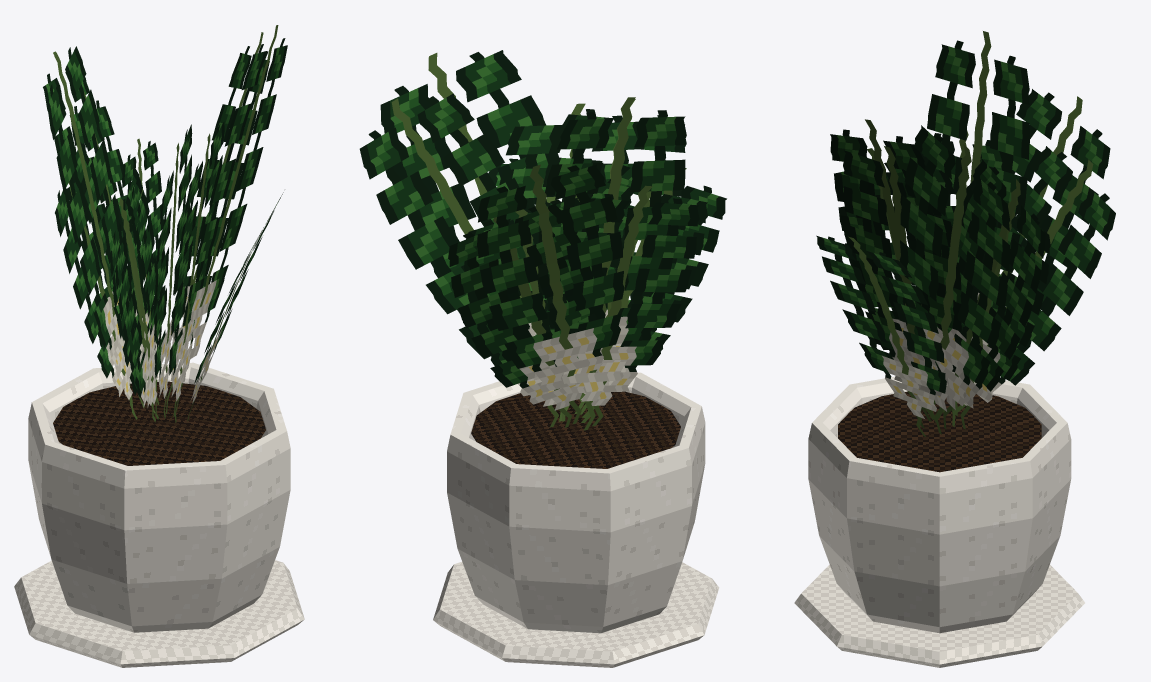
Rendered from Jasmine.gltf.
3 views of the same model, side by side, from view 1: azimuth 30°, elevation 25°; view 2: azimuth 150°, elevation 25°; view 3: azimuth 270°, elevation 25° (orthographic). The views are drawn at different scales.
Parts seen in each view (by area): view 1: Pot.008, Saucer.008, Soil.008, Branch_006, Branch_010, Branch_001, Branch_011, Branch_003, Branch_009, Branch_008, Branch_000, Branch_002 (+3 smaller); view 2: Pot.008, Branch_004, Branch_008, Saucer.008, Soil.008, Branch_006, Branch_010, Branch_011, Branch_007, Branch_003, Branch_001, Branch_000 (+2 smaller); view 3: Pot.008, Branch_010, Saucer.008, Soil.008, Branch_005, Branch_006, Branch_007, Branch_003, Branch_008, Branch_004, Branch_009, Branch_002 (+3 smaller).
Part boxes in pixels (left/top/right/bottom): Pot.008: left=28, top=362, right=290, bottom=632; Saucer.008: left=14, top=560, right=304, bottom=667; Soil.008: left=53, top=381, right=265, bottom=465; Branch_006: left=46, top=46, right=135, bottom=414; Branch_010: left=173, top=25, right=287, bottom=416; Branch_001: left=115, top=176, right=159, bottom=419; Branch_011: left=55, top=142, right=137, bottom=419; Branch_003: left=169, top=121, right=224, bottom=422; Branch_009: left=154, top=124, right=192, bottom=418; Branch_008: left=166, top=32, right=269, bottom=413; Branch_000: left=109, top=169, right=157, bottom=422; Branch_002: left=122, top=138, right=165, bottom=404; Pot.008: left=447, top=372, right=705, bottom=633; Branch_004: left=477, top=164, right=624, bottom=423; Branch_008: left=359, top=93, right=565, bottom=421; Saucer.008: left=433, top=562, right=719, bottom=667; Soil.008: left=471, top=391, right=680, bottom=468; Branch_006: left=537, top=97, right=686, bottom=430; Branch_010: left=380, top=50, right=565, bottom=421; Branch_011: left=548, top=185, right=699, bottom=426; Branch_007: left=448, top=203, right=593, bottom=427; Branch_003: left=499, top=103, right=638, bottom=413; Branch_001: left=582, top=165, right=726, bottom=417; Branch_000: left=547, top=182, right=707, bottom=422; Pot.008: left=808, top=376, right=1071, bottom=633; Branch_010: left=899, top=125, right=1010, bottom=434; Saucer.008: left=794, top=564, right=1084, bottom=667; Soil.008: left=838, top=391, right=1041, bottom=472; Branch_005: left=816, top=235, right=946, bottom=436; Branch_006: left=924, top=31, right=1029, bottom=413; Branch_007: left=952, top=146, right=1115, bottom=426; Branch_003: left=843, top=146, right=961, bottom=428; Branch_008: left=943, top=159, right=1045, bottom=429; Branch_004: left=955, top=89, right=1110, bottom=415; Branch_009: left=830, top=119, right=949, bottom=421; Branch_002: left=952, top=178, right=1050, bottom=429.
Size of the model in its own units: 2.02 by 3.45 by 1.96.
Materials: 4 (4 with a texture image).
